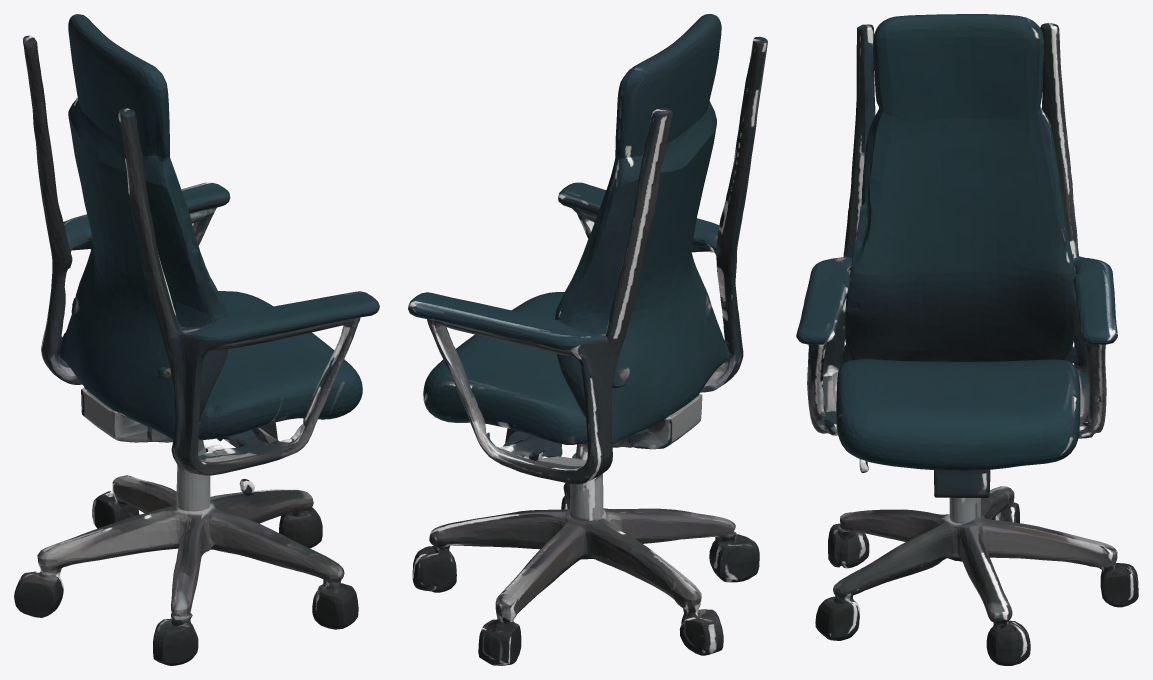
3 renders of one model, left to right at view 1: azimuth 30°, elevation 25°; view 2: azimuth 150°, elevation 25°; view 3: azimuth 270°, elevation 25°, orthographic. The views are drawn at different scales.
Parts seen in each view (by area): view 1: computer_chair_44.obj; view 2: computer_chair_44.obj; view 3: computer_chair_44.obj.
Boxes of the visible parts, <box> form: computer_chair_44.obj: <box>14,14,379,665</box>; computer_chair_44.obj: <box>408,14,767,665</box>; computer_chair_44.obj: <box>796,14,1138,665</box>.
Size of the model in its own units: 0.4982 by 0.9 by 0.5127.
Materials: 1 (1 with a texture image).
